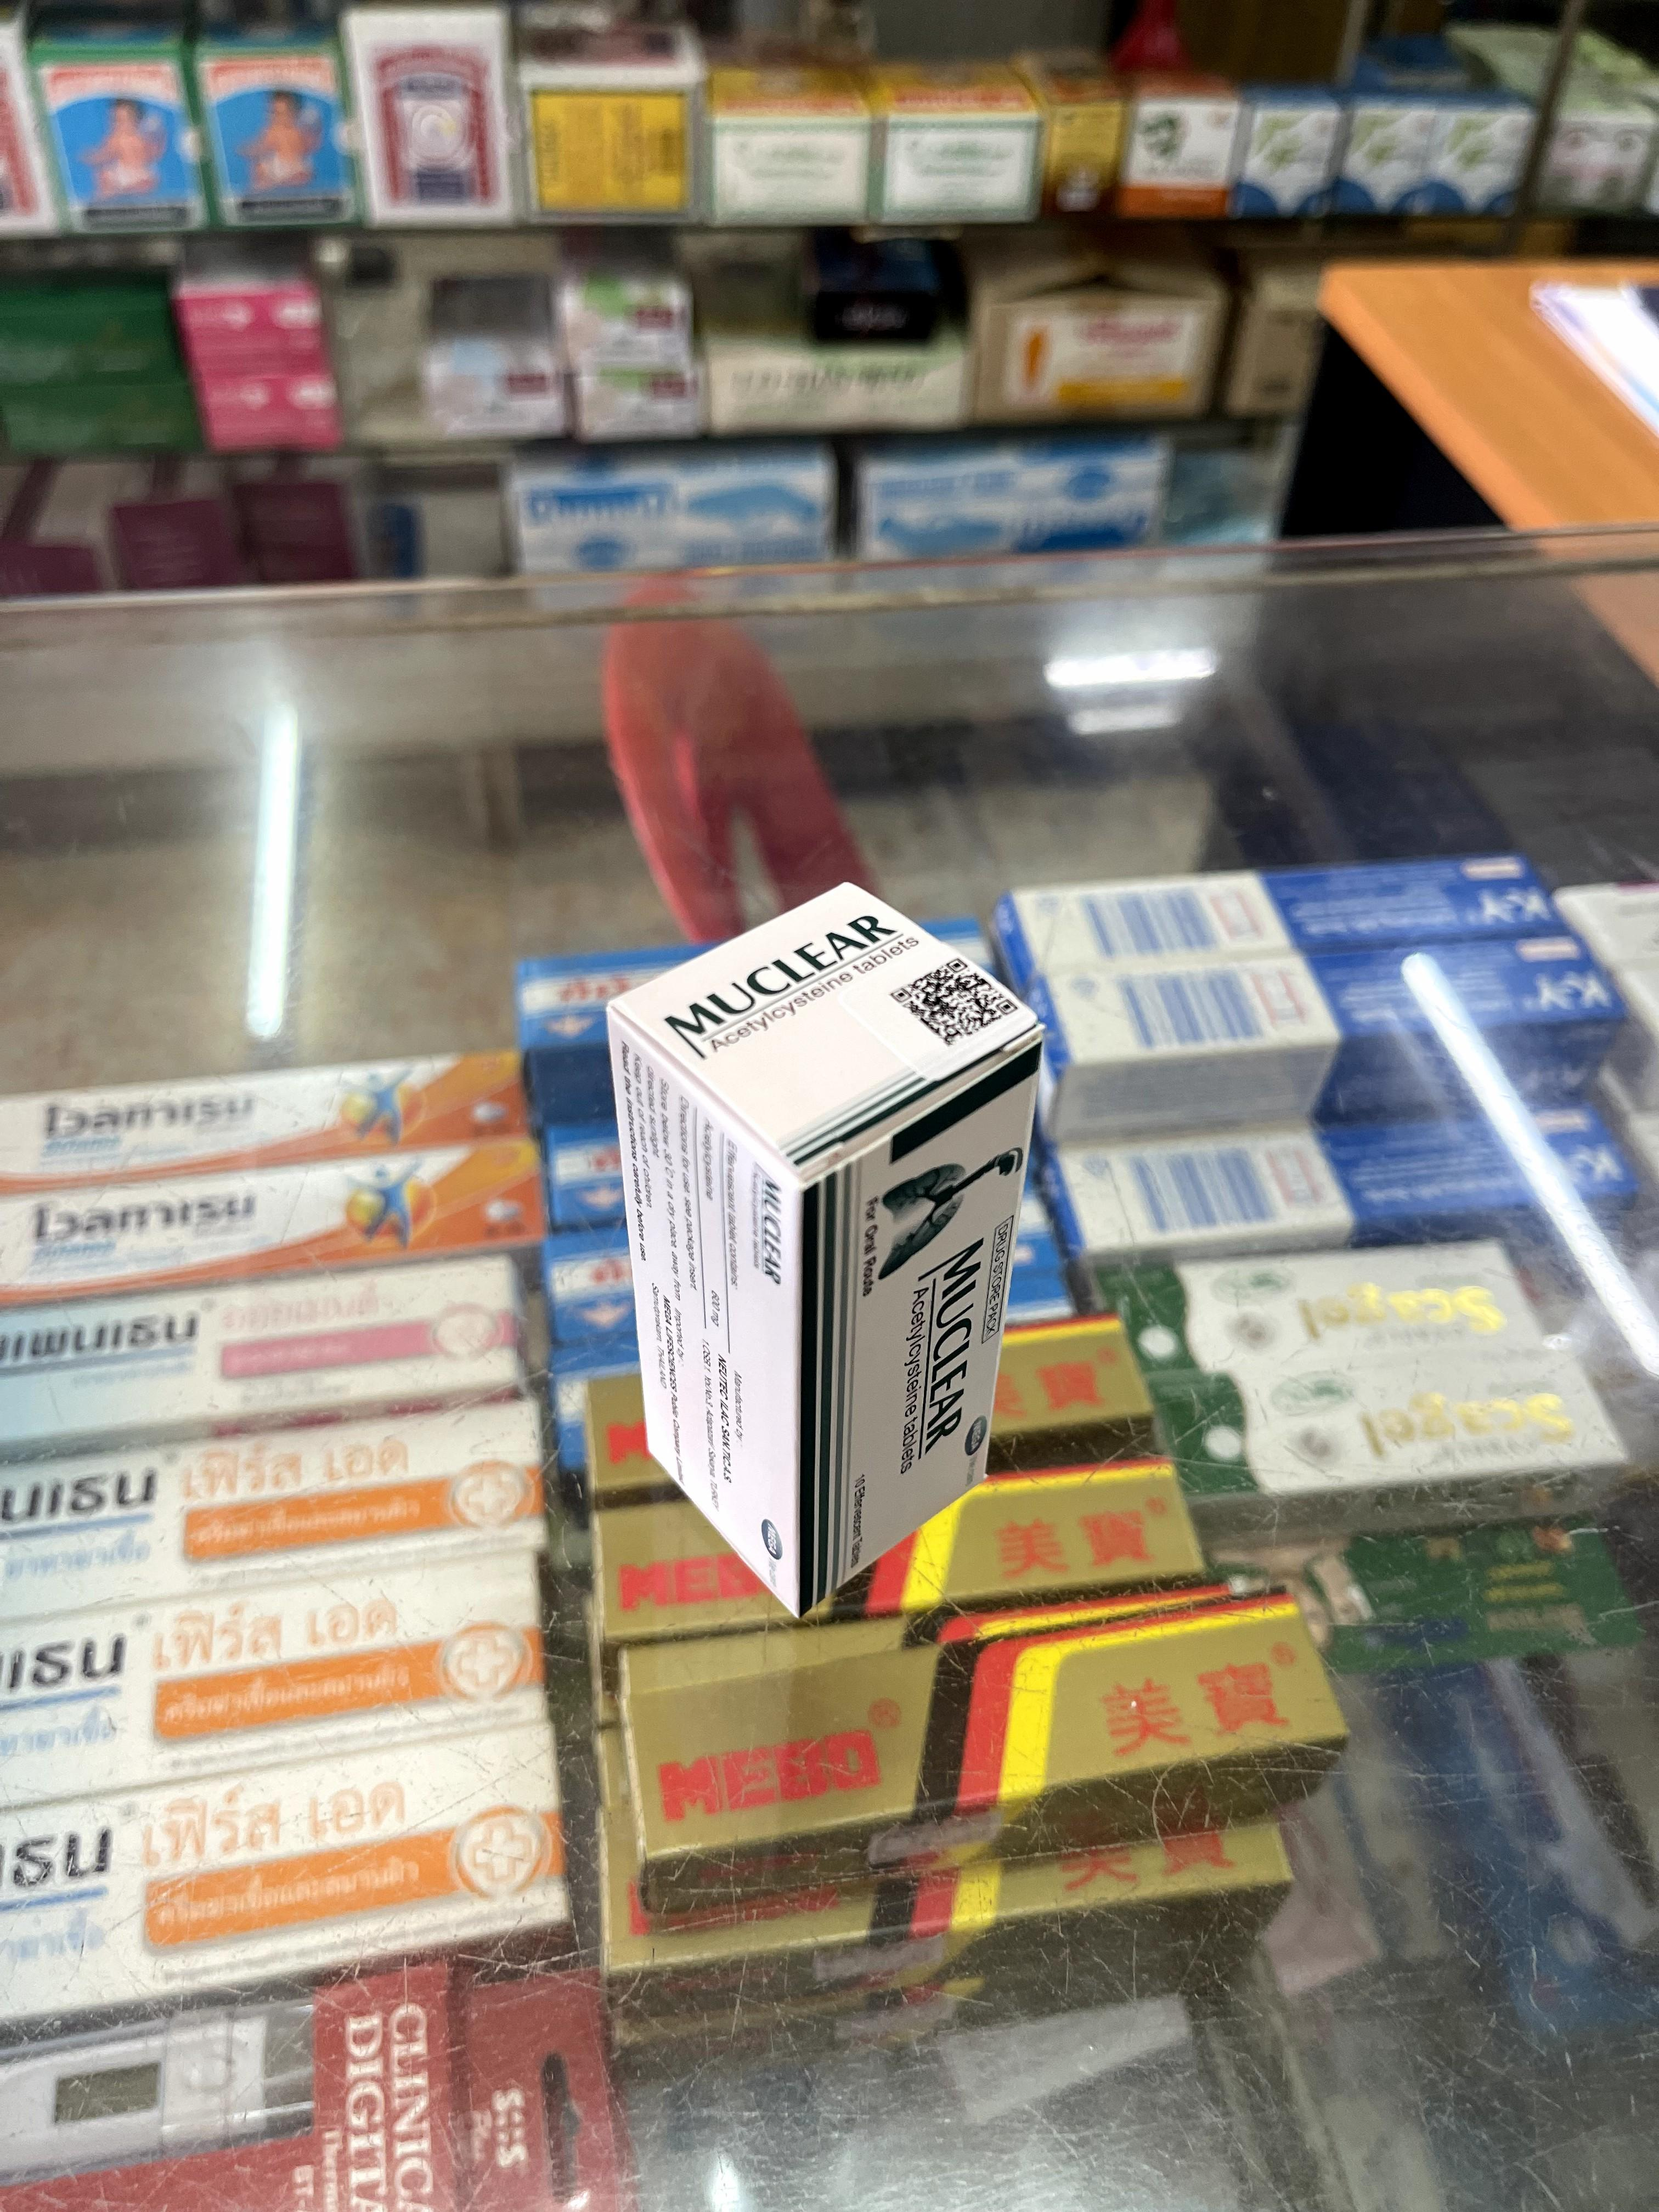Muclear: (606, 878, 1037, 1616)
